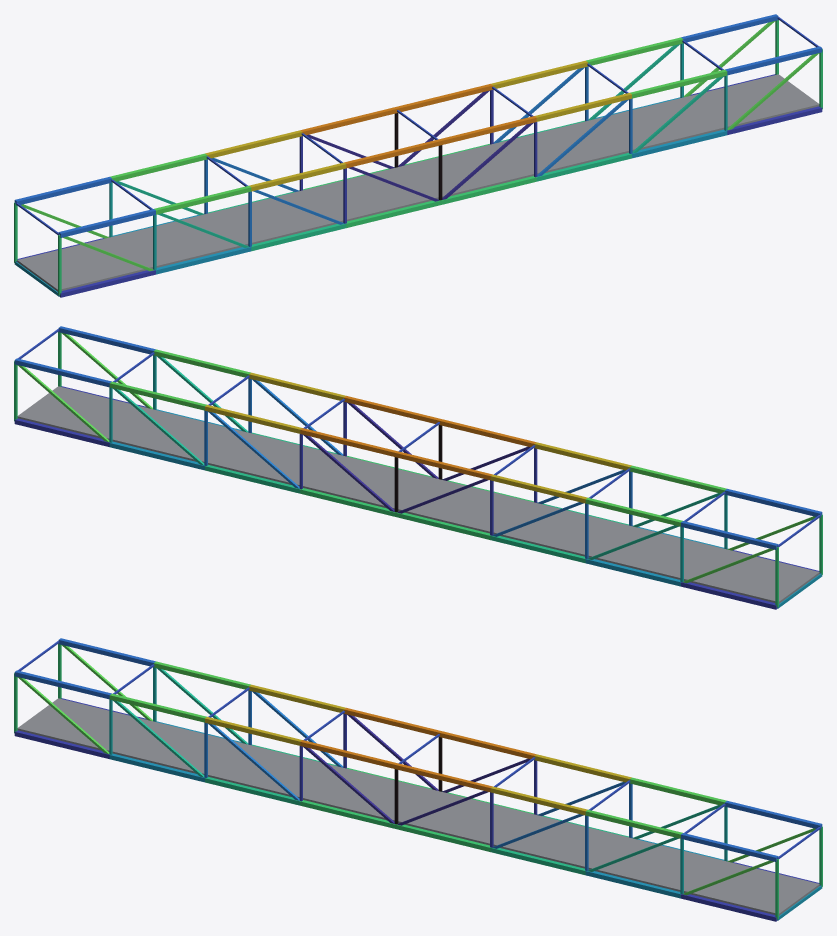
Rendered from 30_2.25_8_HEA200.glb.
The picture shows the model from 3 angles, top to bottom: view 1: azimuth 30°, elevation 25°; view 2: azimuth 150°, elevation 25°; view 3: azimuth 330°, elevation 25°; orthographic projection.
Bounding box in the file's own units: 30.09 × 2.41 × 3.16.
